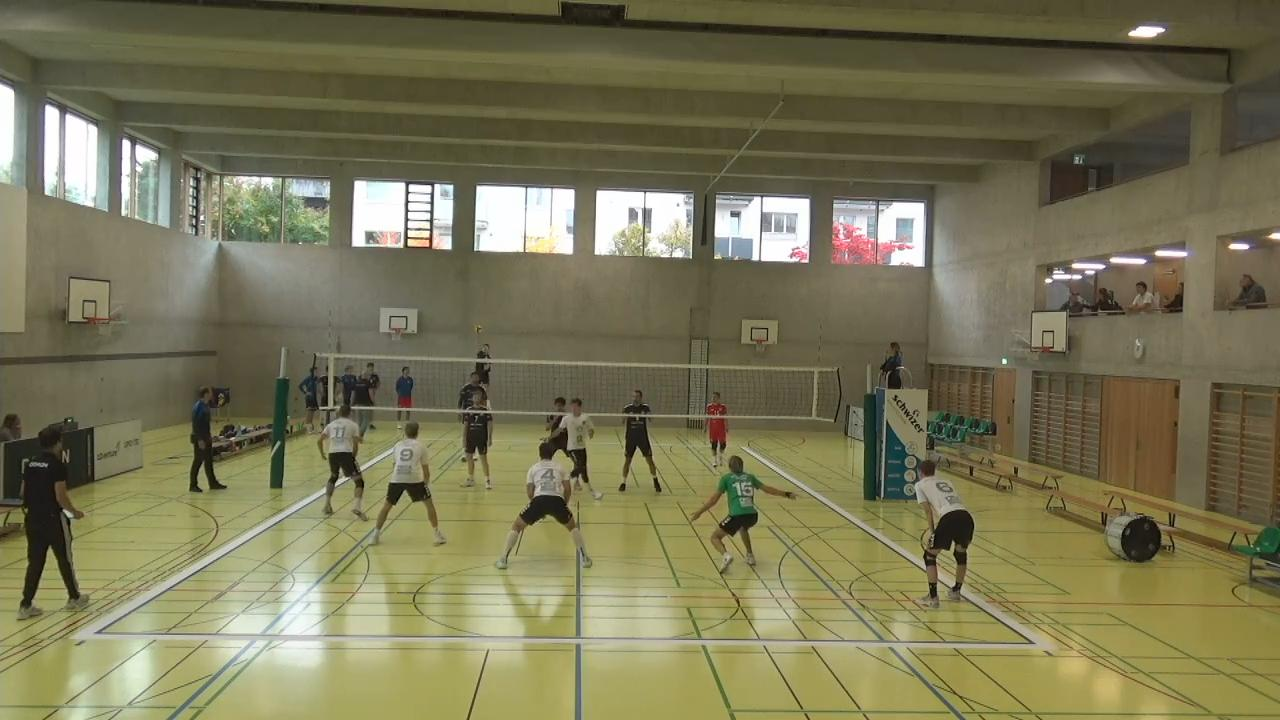battuta: (470, 336, 495, 390)
